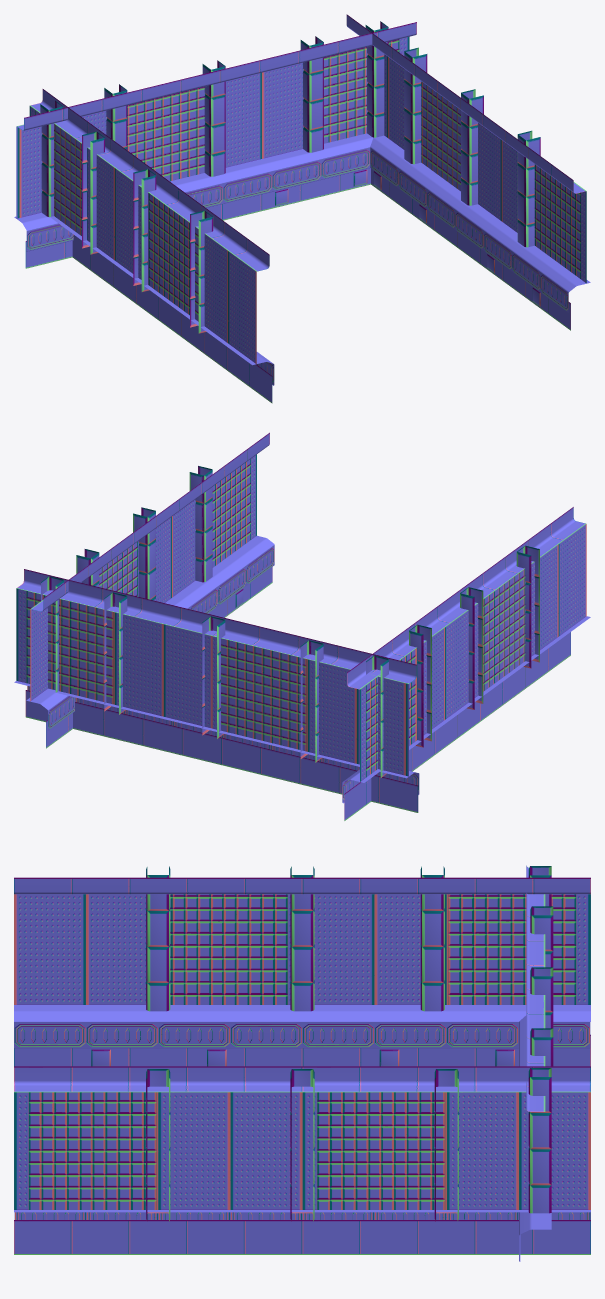
File: wall_inter2.fbx
The picture shows the model from 3 angles, top to bottom: view 1: azimuth 30°, elevation 25°; view 2: azimuth 150°, elevation 25°; view 3: azimuth 270°, elevation 25°; orthographic projection. The views are drawn at different scales.
Parts seen in each view (by area): view 1: polySurface451; view 2: polySurface451; view 3: polySurface451.
Boxes of the visible parts, bbox=[...] form: polySurface451: bbox=[14, 14, 590, 403]; polySurface451: bbox=[14, 432, 590, 820]; polySurface451: bbox=[14, 865, 590, 1261].
Size of the model in its own units: 457 by 167 by 457.
